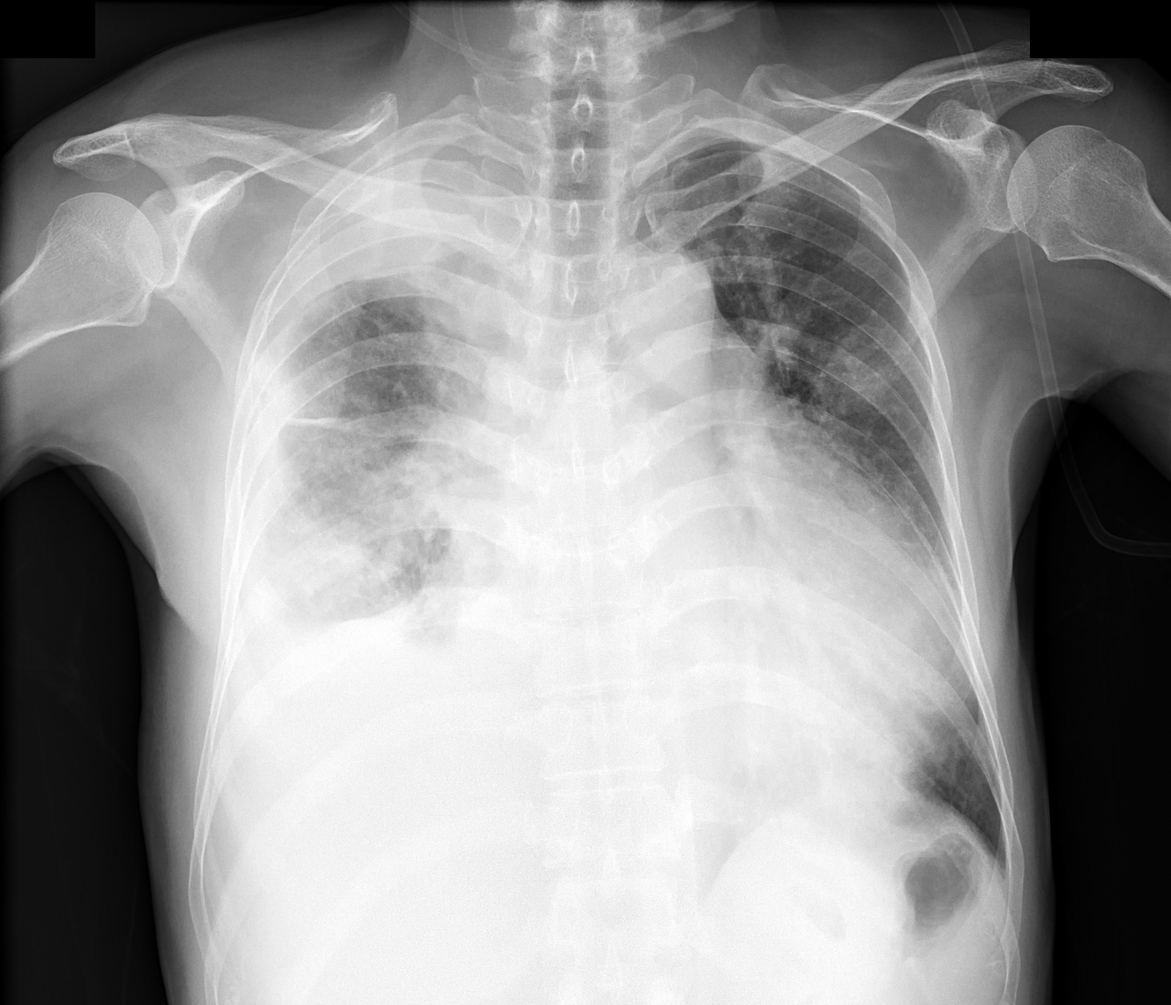Aortic enlargement: (594, 244, 720, 363)
Cardiomegaly: (432, 479, 976, 817)
Pleural thickening: (253, 129, 515, 525)
